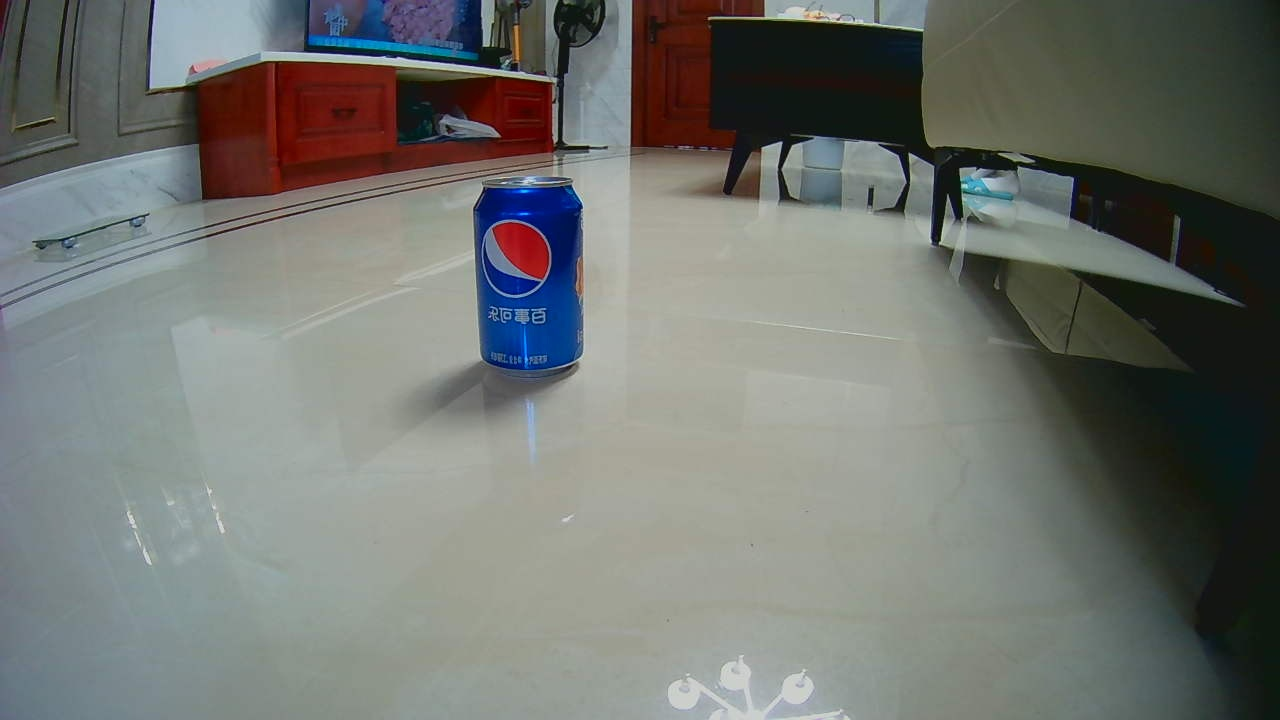pessi: (475, 176, 584, 365)
